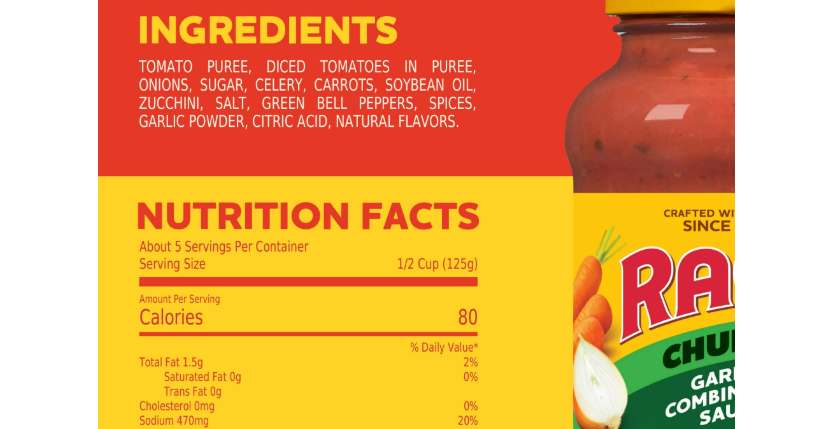l: (130, 11, 502, 139)
